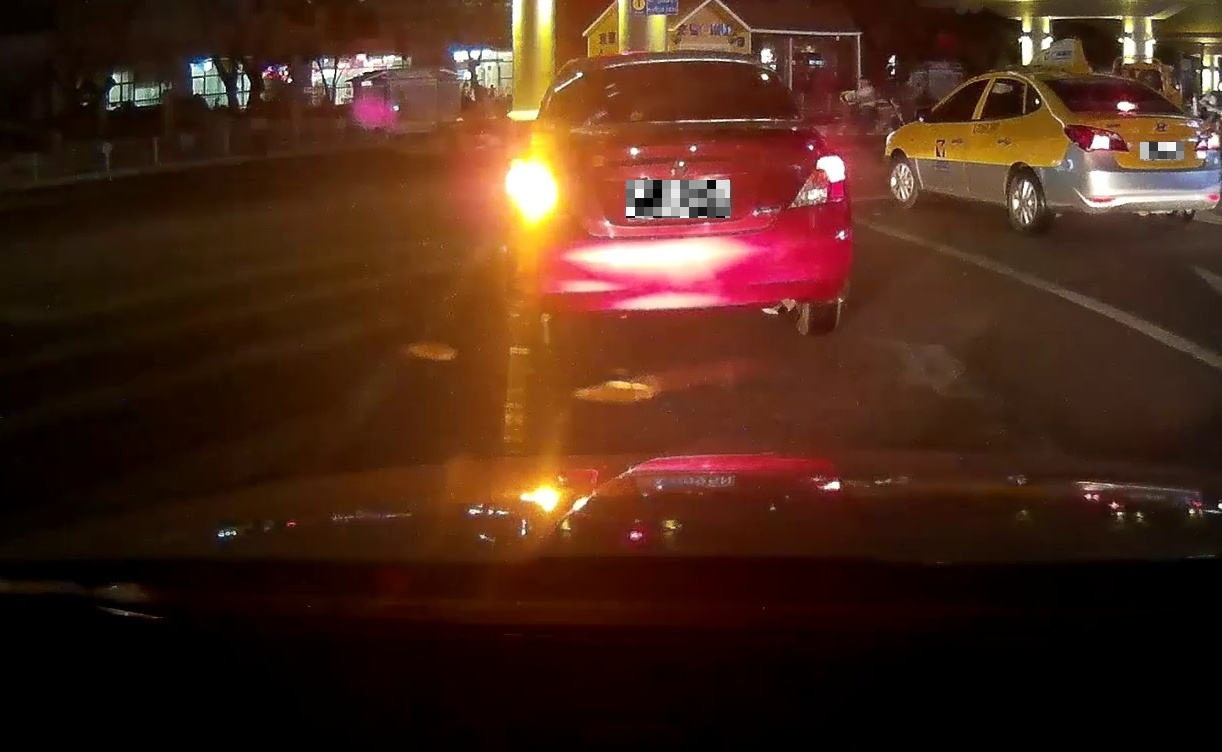L_light: (510, 165, 569, 216), (1062, 124, 1130, 152)
R_light: (787, 152, 847, 209), (1194, 129, 1220, 149)
T_light: (650, 62, 690, 71), (1116, 101, 1140, 112)
night-brake: (1041, 68, 1221, 235)
night-left: (507, 49, 853, 344)
plate_1: (626, 180, 730, 218)
plate_2: (1140, 142, 1184, 159)
